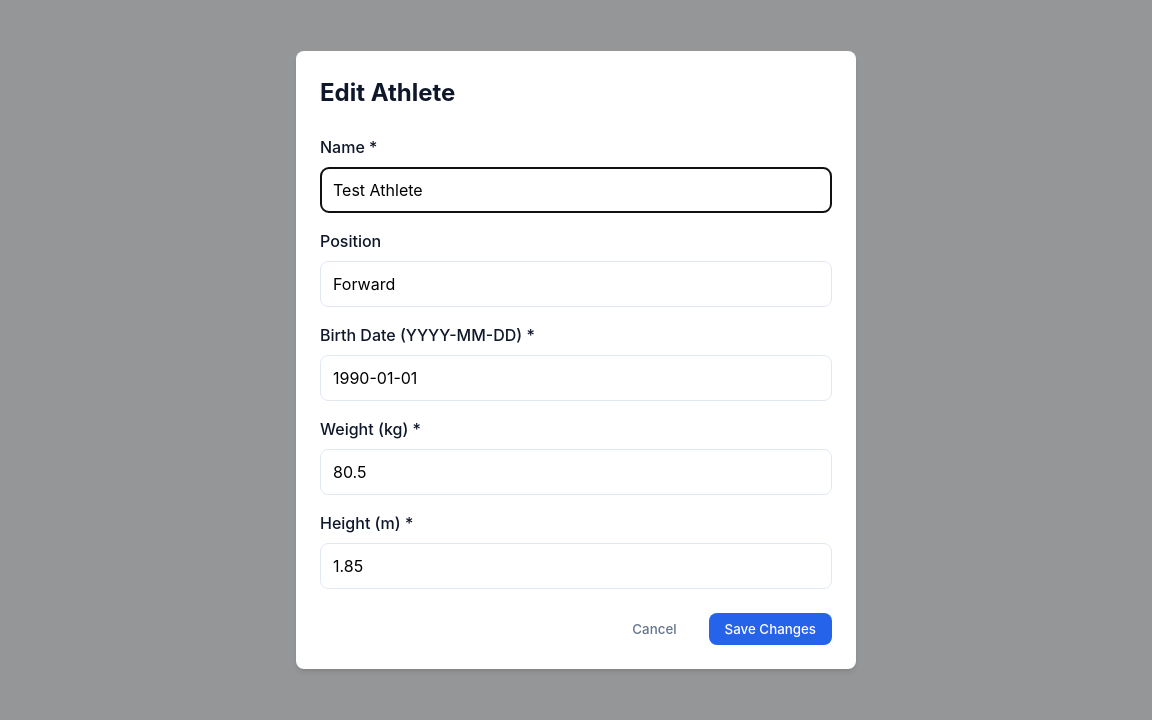
Test: AthleteEditModal › validates fields on submit
The image size is (1152, 720).
Clear the field labelled "Name *" at (576, 190), box [320,167,832,213]
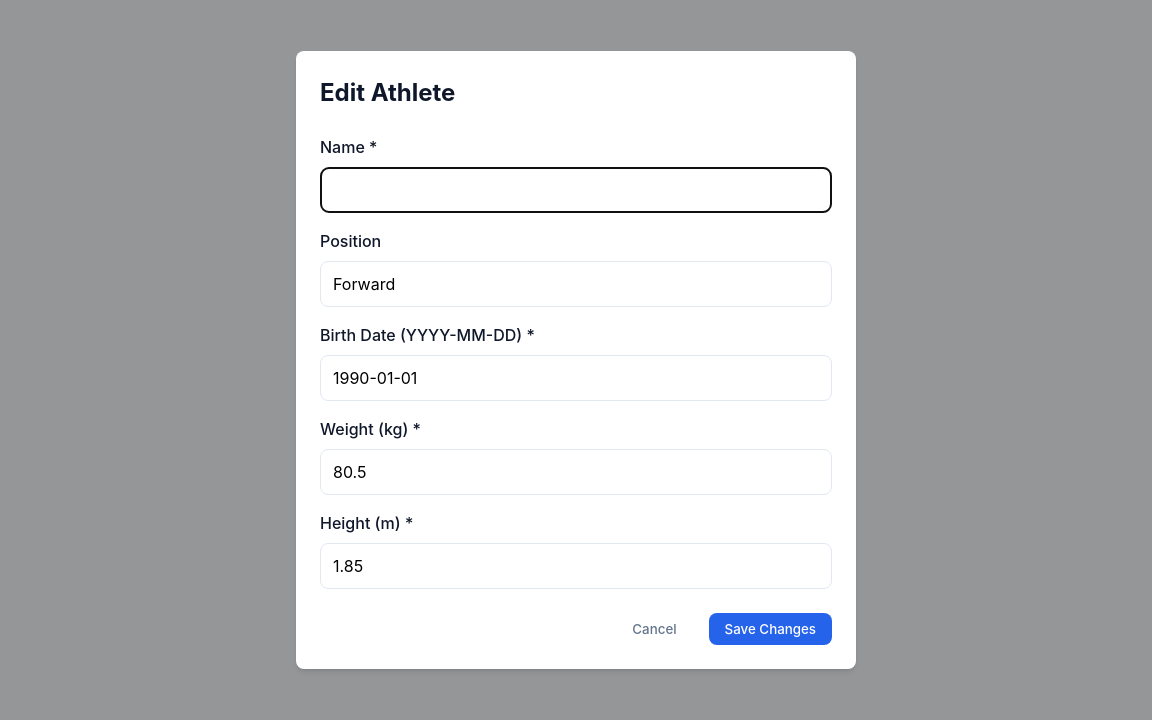
Click the button "Save Changes" at (770, 629), box [709,613,832,645]
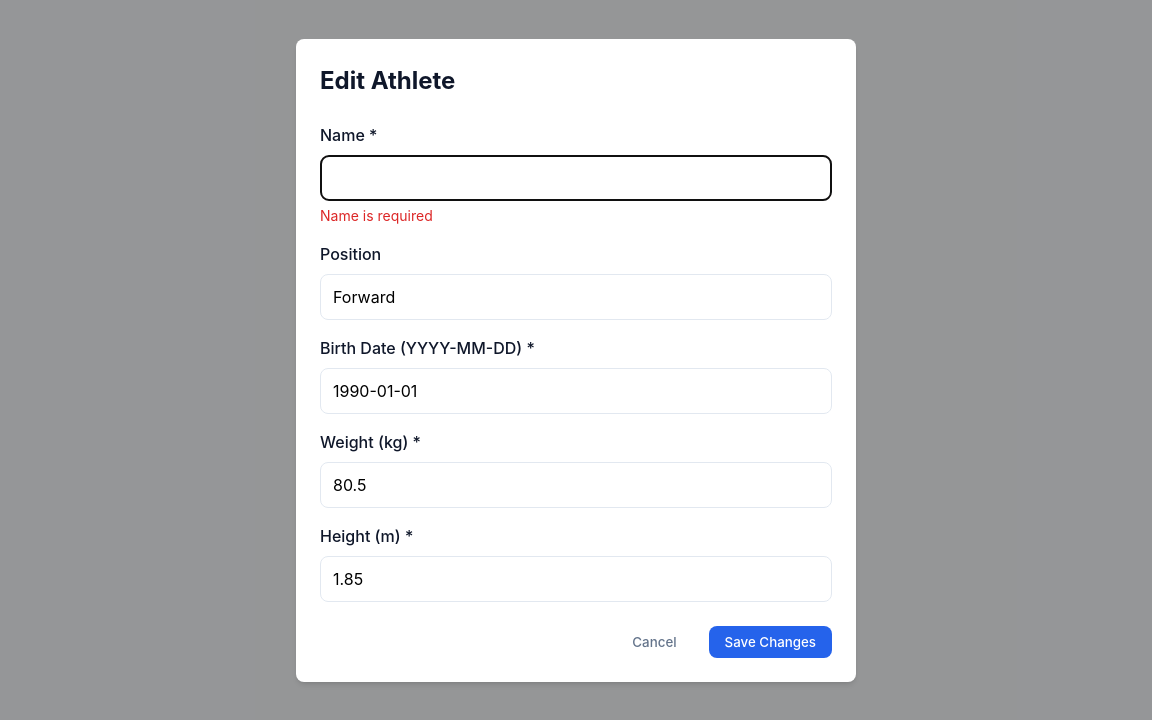
Check: the text "Name is required" is shown, box [320,206,433,224]
